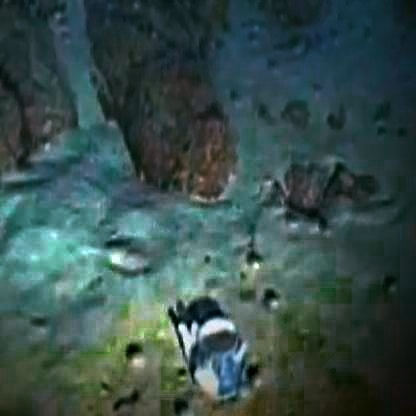misc: (171, 282, 261, 409)
